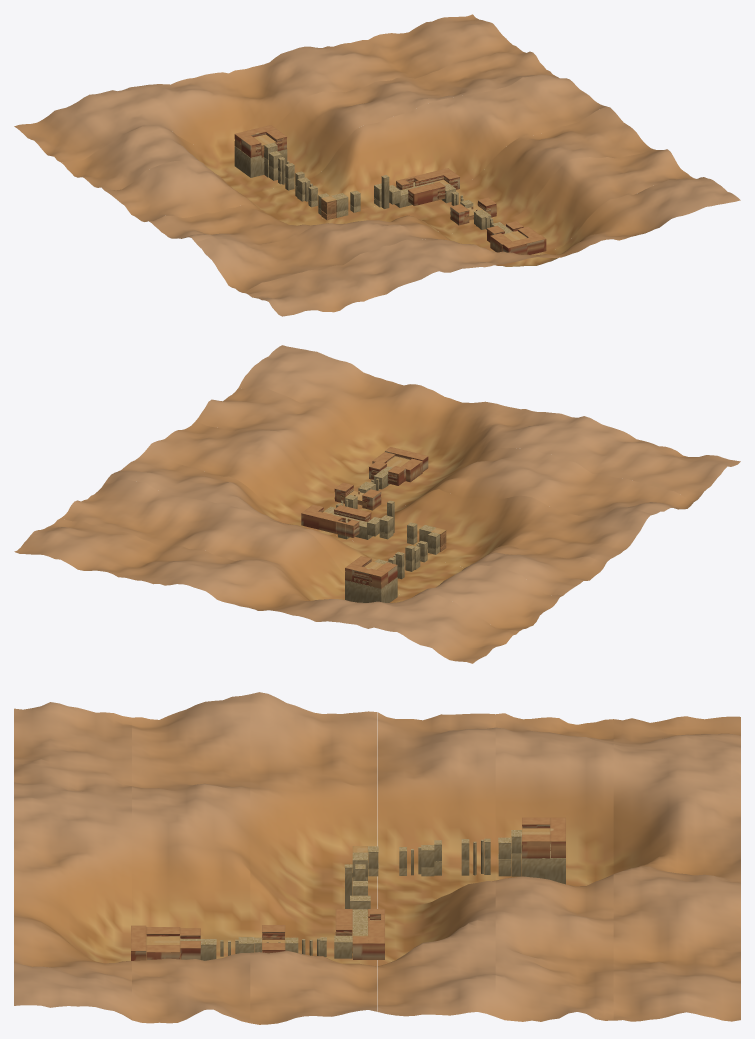
The model's file is desert_night_terrain.glb.
The picture shows the model from 3 angles, top to bottom: view 1: azimuth 30°, elevation 25°; view 2: azimuth 150°, elevation 25°; view 3: azimuth 270°, elevation 25°; orthographic projection. The views are drawn at different scales.
Parts seen in each view (by area): view 1: backdrop_5, backdrop_3, backdrop_4, backdrop_1, backdrop_0, backdrop_2, terrain_J, terrain_E, terrain_A, terrain_H, terrain_I, terrain_C (+3 smaller); view 2: backdrop_0, backdrop_2, backdrop_1, backdrop_5, backdrop_4, backdrop_3, terrain_J, terrain_E, terrain_A, terrain_C, terrain_B, terrain_F (+2 smaller); view 3: backdrop_5, backdrop_0, backdrop_2, backdrop_1, backdrop_3, backdrop_4, terrain_J, terrain_E, terrain_I, terrain_A, terrain_B, terrain_H (+3 smaller).
Part boxes in pixels (box(x1,y1,x2,y2)): backdrop_5: box(14, 14, 519, 162); backdrop_3: box(105, 74, 606, 225); backdrop_4: box(61, 49, 559, 195); backdrop_1: box(195, 149, 696, 292); backdrop_0: box(240, 177, 740, 316); backdrop_2: box(148, 106, 652, 244); terrain_J: box(234, 125, 287, 177); terrain_E: box(396, 168, 459, 205); terrain_A: box(490, 226, 546, 254); terrain_H: box(297, 177, 336, 220); terrain_I: box(268, 151, 304, 196); terrain_C: box(450, 197, 496, 225); backdrop_0: box(239, 345, 740, 500); backdrop_2: box(148, 422, 652, 567); backdrop_1: box(195, 387, 696, 516); backdrop_5: box(14, 518, 519, 663); backdrop_4: box(61, 479, 562, 630); backdrop_3: box(105, 447, 606, 597); terrain_J: box(345, 556, 397, 602); terrain_E: box(301, 504, 371, 539); terrain_A: box(372, 447, 428, 482); terrain_C: box(334, 482, 381, 510); terrain_B: box(360, 461, 405, 490); terrain_F: box(359, 500, 394, 539); backdrop_5: box(613, 716, 740, 1021); backdrop_0: box(14, 702, 131, 1019); backdrop_2: box(250, 692, 377, 1024); backdrop_1: box(132, 694, 250, 1023); backdrop_3: box(377, 712, 495, 1016); backdrop_4: box(495, 713, 613, 1021); terrain_J: box(511, 817, 565, 884); terrain_E: box(335, 909, 384, 959); terrain_I: box(434, 837, 511, 876); terrain_A: box(131, 925, 180, 960); terrain_B: box(180, 928, 254, 960); terrain_H: box(352, 845, 434, 876).
Bounding box in the file's own units: 553 × 65.18 × 560.
